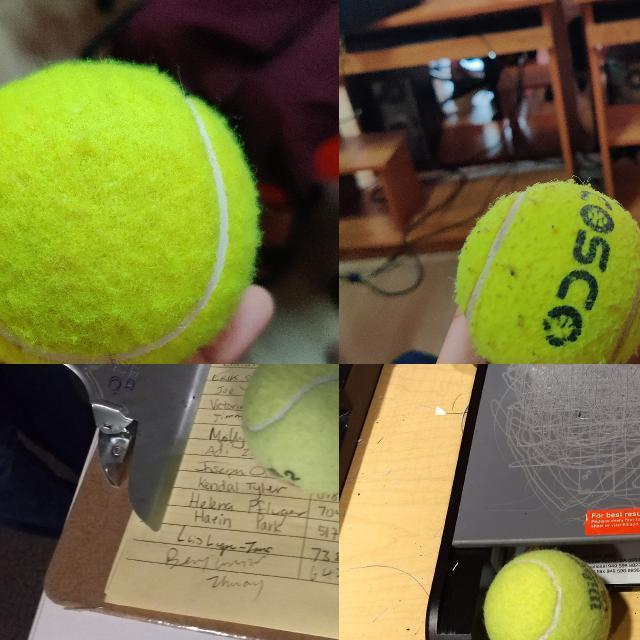tennis-ball: (0, 62, 257, 363), (455, 182, 639, 363), (239, 364, 338, 497), (483, 548, 614, 639)
